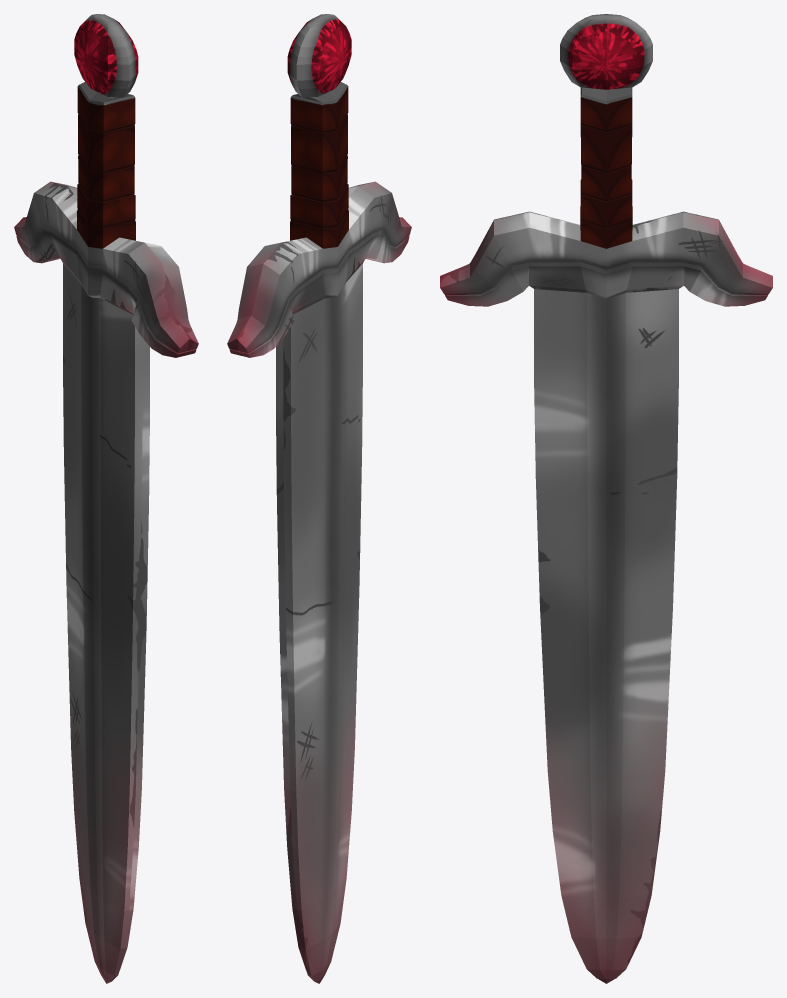
Rendered from espada com textura.fbx.
The picture shows the model from 3 angles, left to right: view 1: azimuth 30°, elevation 25°; view 2: azimuth 150°, elevation 25°; view 3: azimuth 270°, elevation 25°; orthographic projection.
Visible parts, largest first — view 1: espada; view 2: espada; view 3: espada.
Part boxes in pixels (x1,y1,x2,y2): espada: (14, 14, 198, 983); espada: (227, 14, 411, 983); espada: (440, 14, 772, 983).
Bounding box in the file's own units: 177 × 3824 × 1193.
